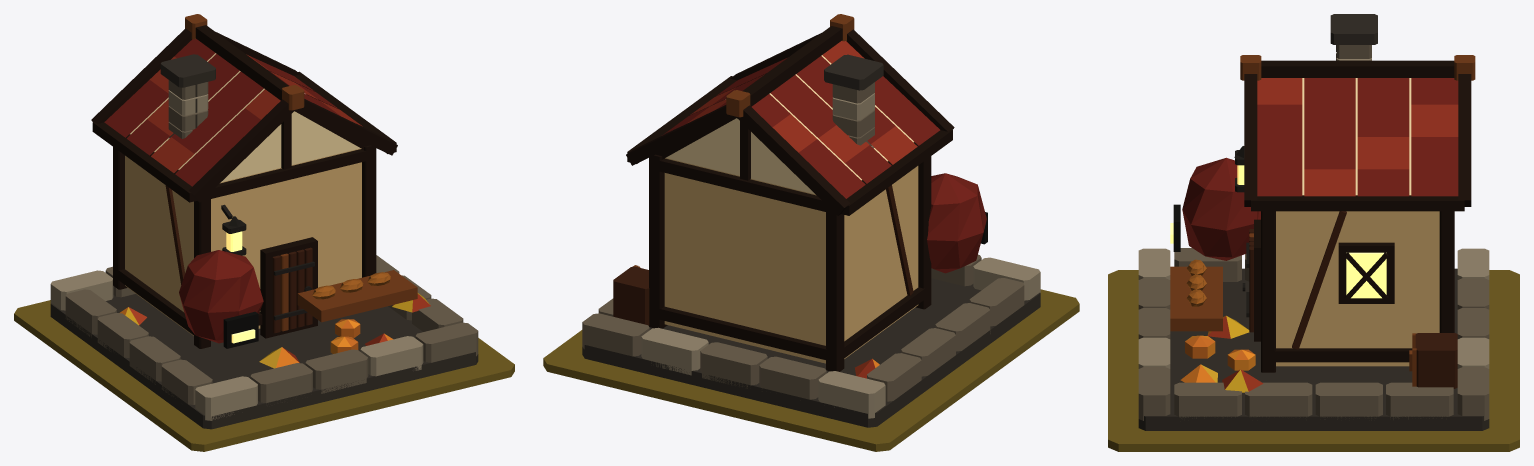
The model's file is bakery_t4.glb.
3 renders of one model, left to right at view 1: azimuth 30°, elevation 25°; view 2: azimuth 150°, elevation 25°; view 3: azimuth 270°, elevation 25°, orthographic. The views are drawn at different scales.
Parts seen in each view (by area): view 1: MMR | bakery | T04 Architecture.001, MMR | bakery | Tier 04 Ground.001, MMR | bakery | T04 Autumn Dressing.001; view 2: MMR | bakery | T04 Architecture.001, MMR | bakery | Tier 04 Ground.001; view 3: MMR | bakery | T04 Architecture.001, MMR | bakery | Tier 04 Ground.001, MMR | bakery | T04 Autumn Dressing.001.
Part boxes in pixels (x1,y1,x2,y2): MMR | bakery | T04 Architecture.001: (50,14,478,429); MMR | bakery | Tier 04 Ground.001: (14,300,514,451); MMR | bakery | T04 Autumn Dressing.001: (120,293,430,368); MMR | bakery | T04 Architecture.001: (582,14,1040,427); MMR | bakery | Tier 04 Ground.001: (543,289,1079,451); MMR | bakery | T04 Architecture.001: (1138,14,1489,430); MMR | bakery | Tier 04 Ground.001: (1108,270,1519,451); MMR | bakery | T04 Autumn Dressing.001: (1180,315,1263,392).
Size of the model in its own units: 2.35 by 1.95 by 2.35.
2 materials, 1 textured.
